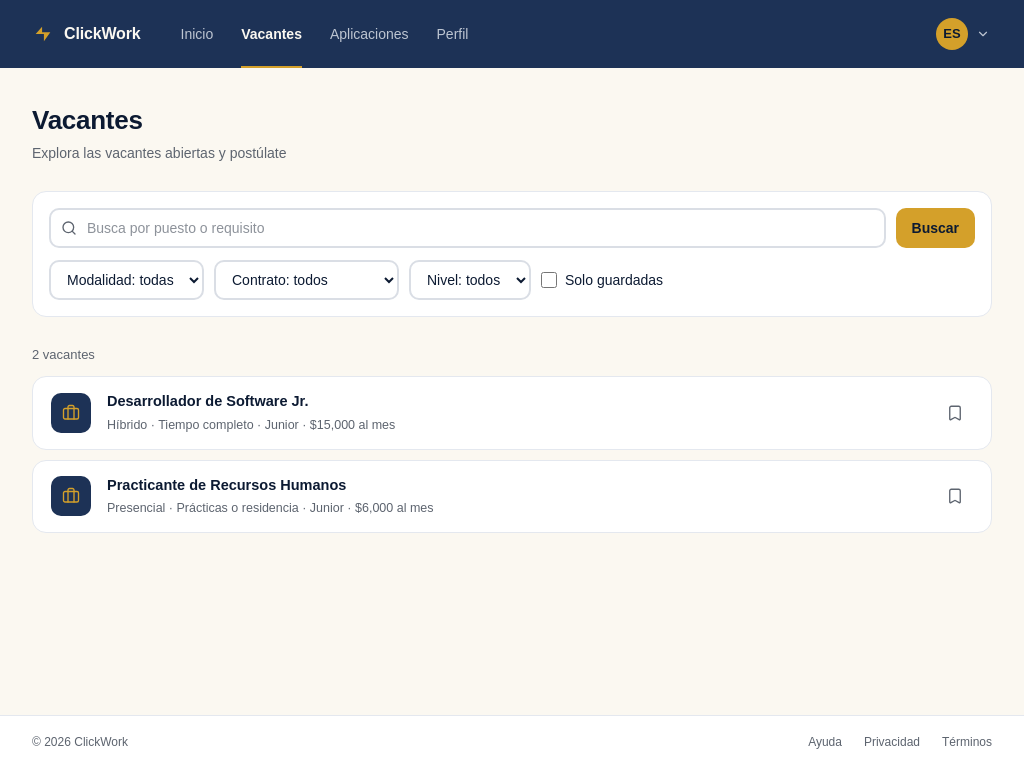
JobsPage › saves a job and shows it under 'only saved'
Check: the text "2 vacantes" is shown, box [32,346,95,362]
Click the button named "Guardar Practicante de Recursos Humanos".
click(955, 496)  # box [937,478,973,514]
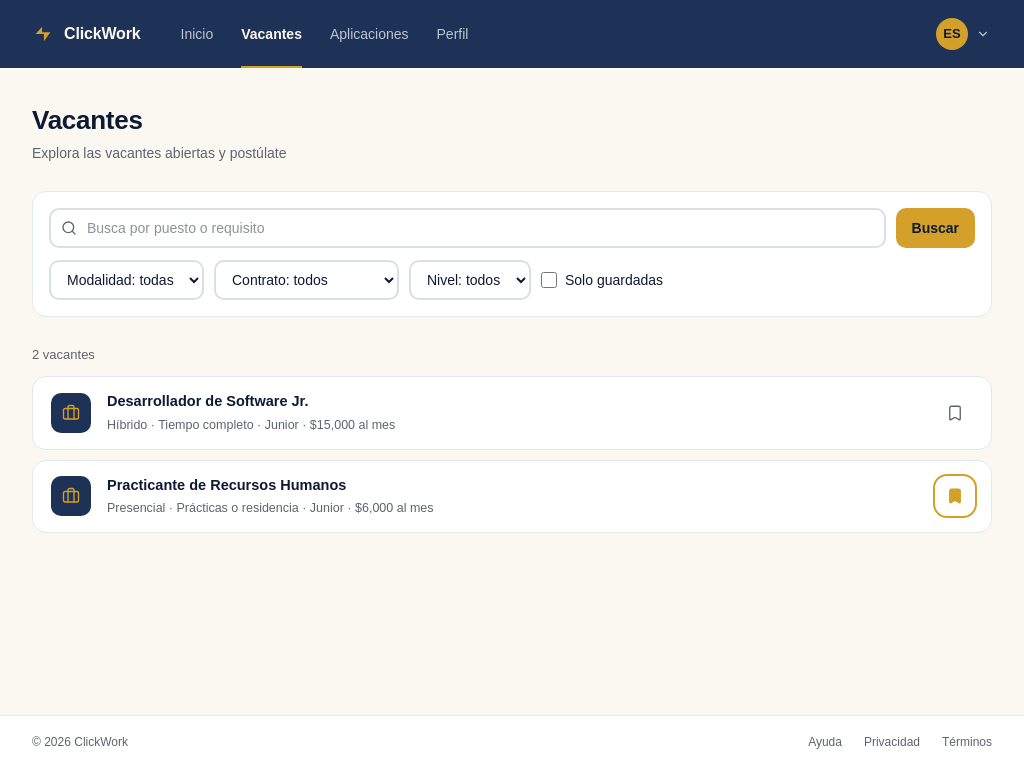
Click the checkbox labelled "Solo guardadas".
click(549, 280)  # box [541,272,557,288]
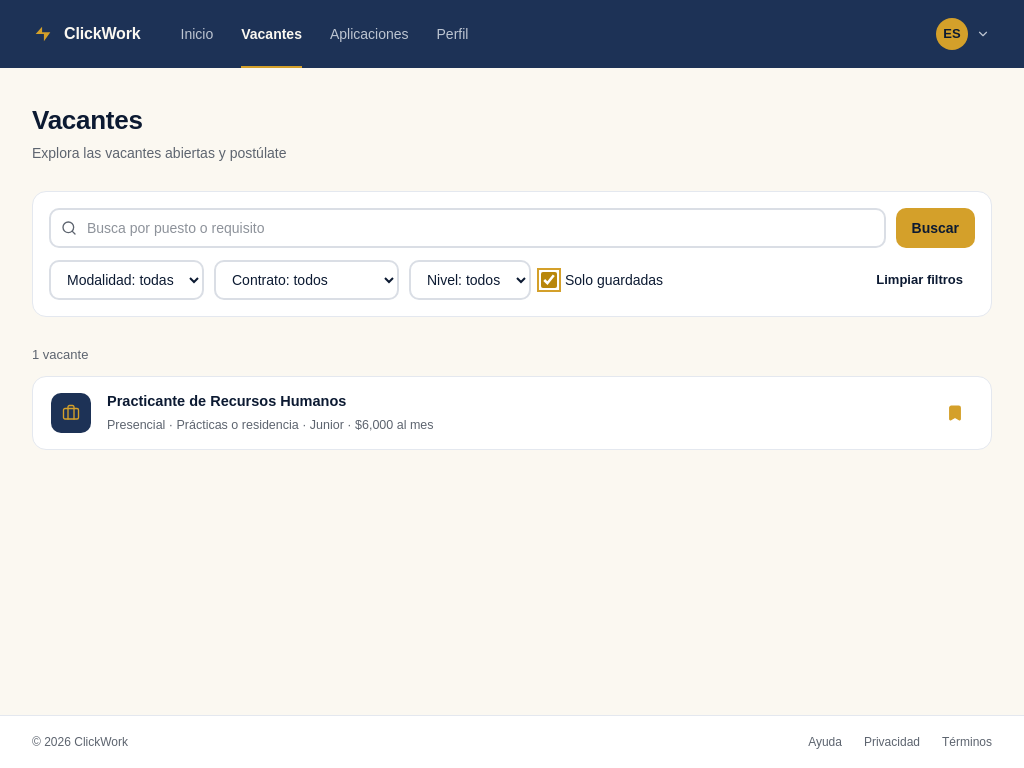
Check: the text "1 vacante" is shown, box [32,346,88,362]
